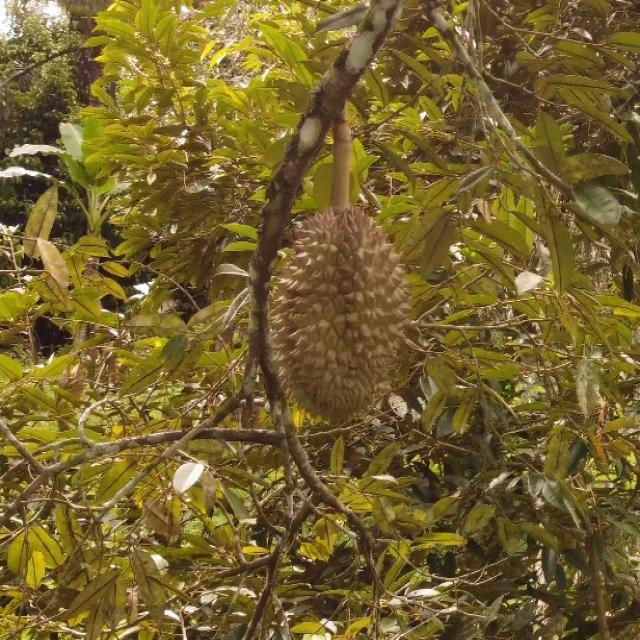mature: (265, 204, 411, 418)
